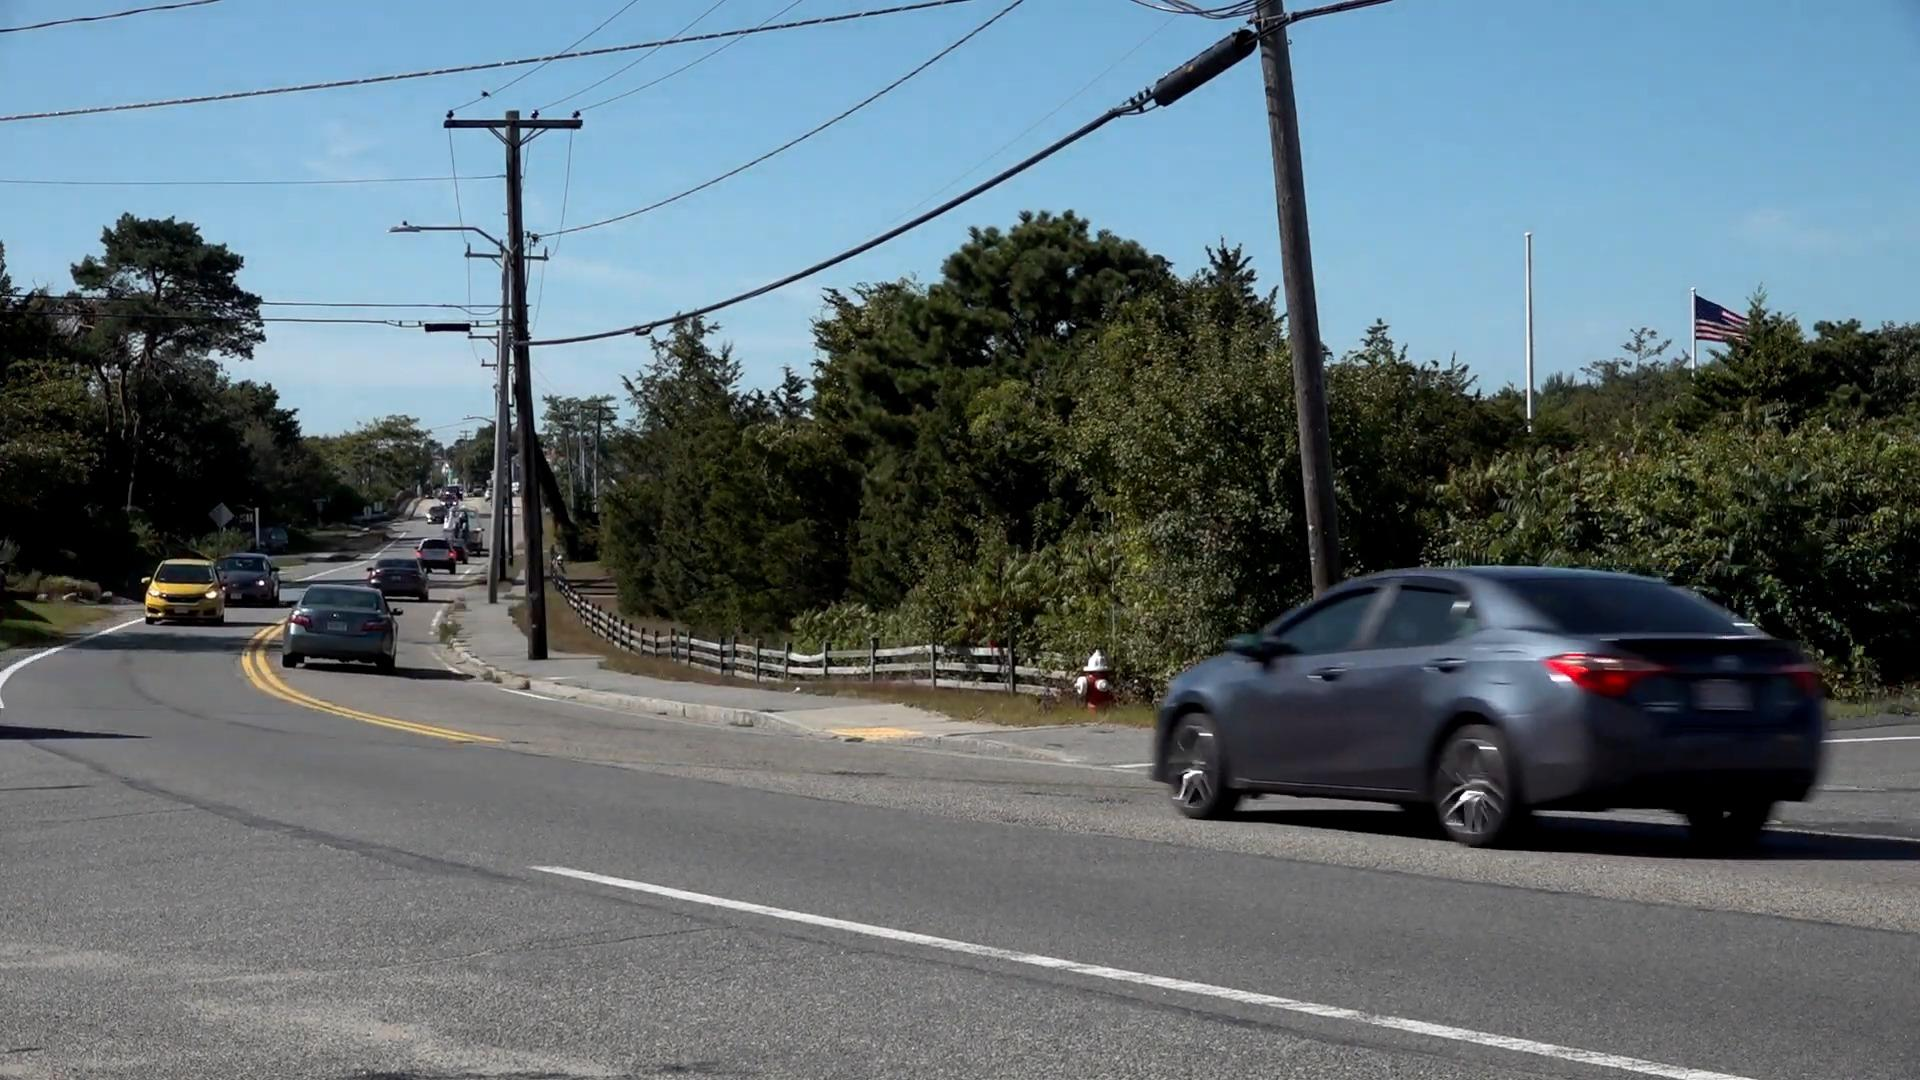sedans: (1154, 567, 1829, 844), (285, 585, 401, 670), (144, 554, 223, 622)
